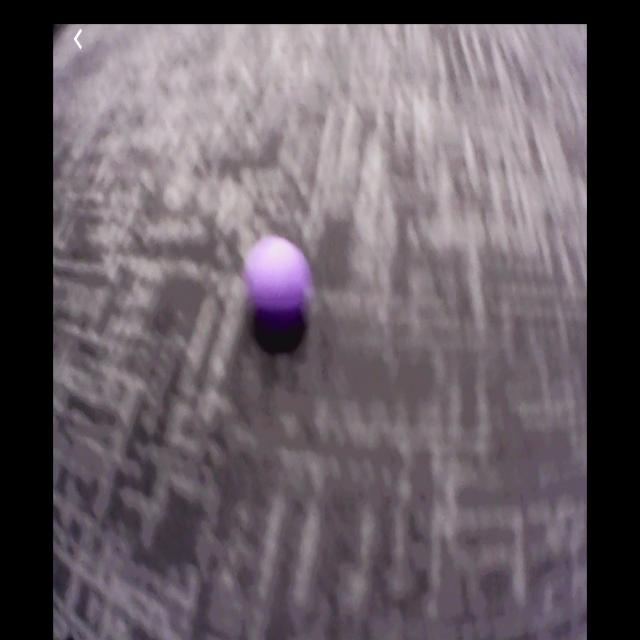ball: (248, 240, 309, 324)
